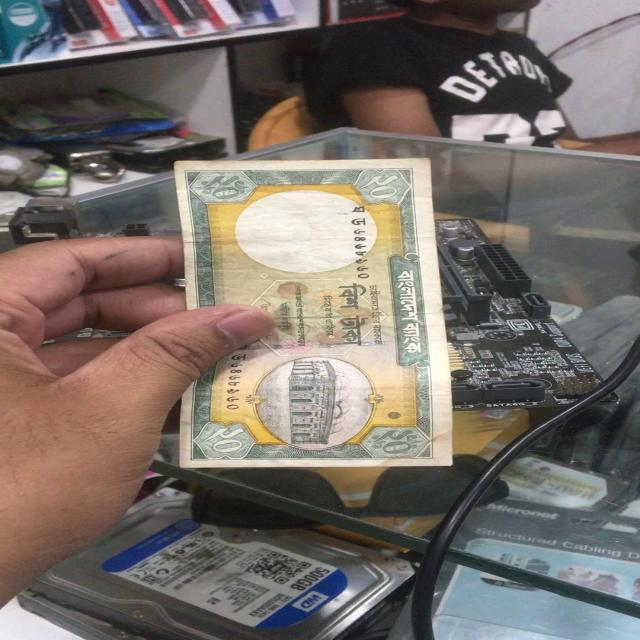Taka: (182, 161, 455, 467)
